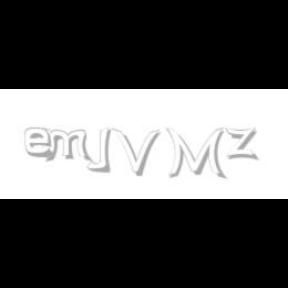J: (86, 128, 112, 172)
M: (166, 128, 225, 180)
V: (112, 128, 160, 176)
e: (24, 128, 57, 158)
m: (42, 128, 94, 162)
z: (225, 128, 261, 160)
